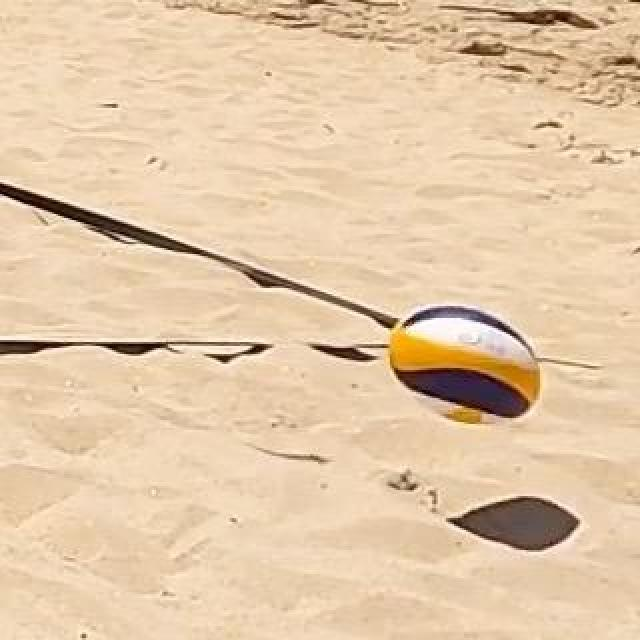volleyball: (388, 302, 540, 426)
